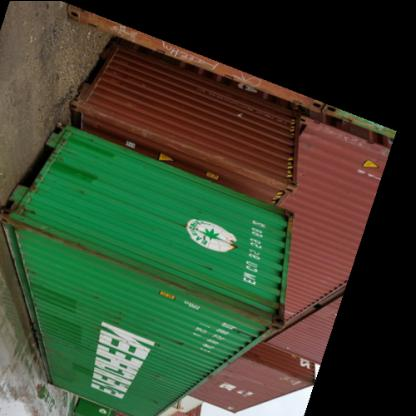Damage: (21, 216, 171, 286), (176, 281, 296, 334), (17, 140, 71, 206)
